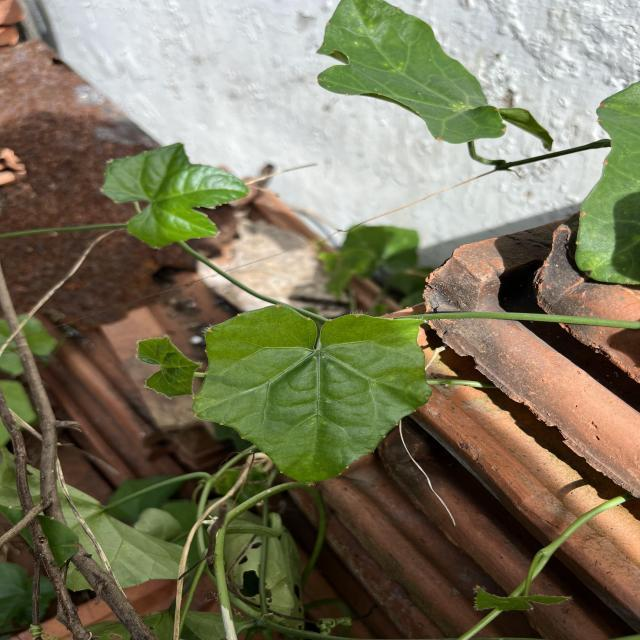Coccinia grandis: (190, 303, 436, 488)
